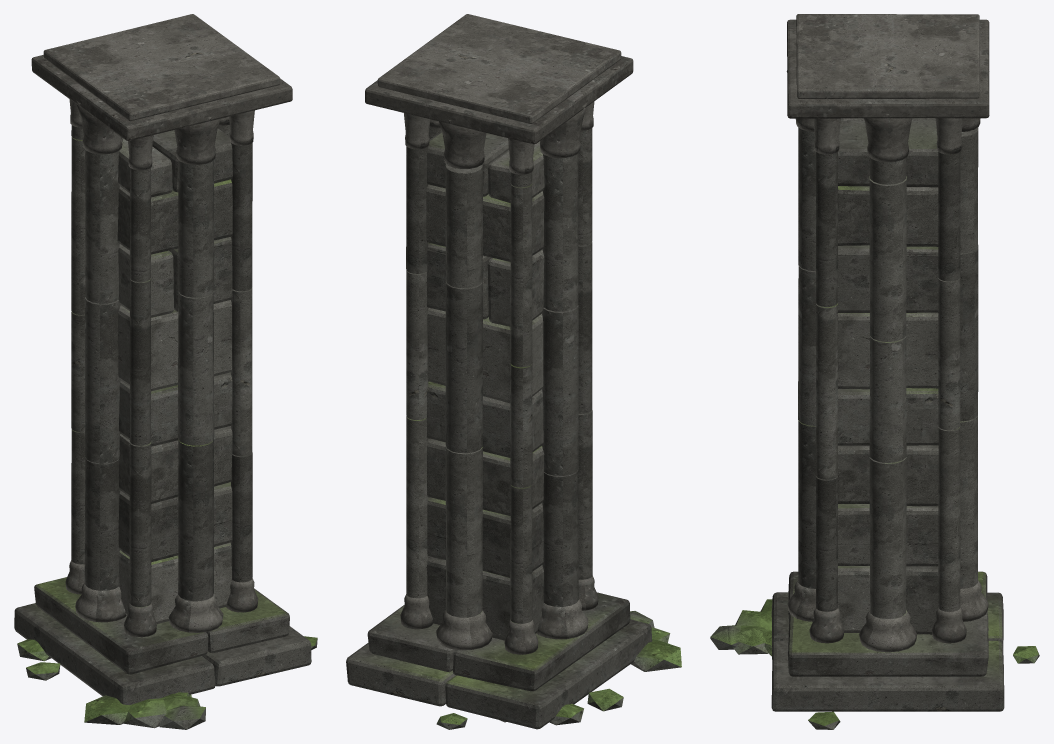
File: ER_Pile_Fasciculee_4m7.gltf
3 renders of one model, left to right at view 1: azimuth 30°, elevation 25°; view 2: azimuth 150°, elevation 25°; view 3: azimuth 270°, elevation 25°, orthographic. The views are drawn at different scales.
Visible parts, largest first — view 1: ER_Pile_Fasciculee_4m7_P.001, ER_Pile_Fasciculee_4m7_MOUL.001, ER_Pile_Fasciculee_4m7_PM.001; view 2: ER_Pile_Fasciculee_4m7_P.001, ER_Pile_Fasciculee_4m7_MOUL.001, ER_Pile_Fasciculee_4m7_PM.001; view 3: ER_Pile_Fasciculee_4m7_P.001, ER_Pile_Fasciculee_4m7_MOUL.001, ER_Pile_Fasciculee_4m7_PM.001.
Boxes of the visible parts, x1,y1,x2,y2 form: ER_Pile_Fasciculee_4m7_P.001: (14,124,311,704); ER_Pile_Fasciculee_4m7_MOUL.001: (31,14,292,637); ER_Pile_Fasciculee_4m7_PM.001: (17,636,317,729); ER_Pile_Fasciculee_4m7_P.001: (346,127,652,729); ER_Pile_Fasciculee_4m7_MOUL.001: (365,14,633,654); ER_Pile_Fasciculee_4m7_PM.001: (436,611,681,729); ER_Pile_Fasciculee_4m7_P.001: (771,118,1004,711); ER_Pile_Fasciculee_4m7_MOUL.001: (786,14,989,652); ER_Pile_Fasciculee_4m7_PM.001: (710,599,1039,729).
Bounding box in the file's own units: 2.12 × 4.8 × 2.29.
3 materials, 3 textured.
